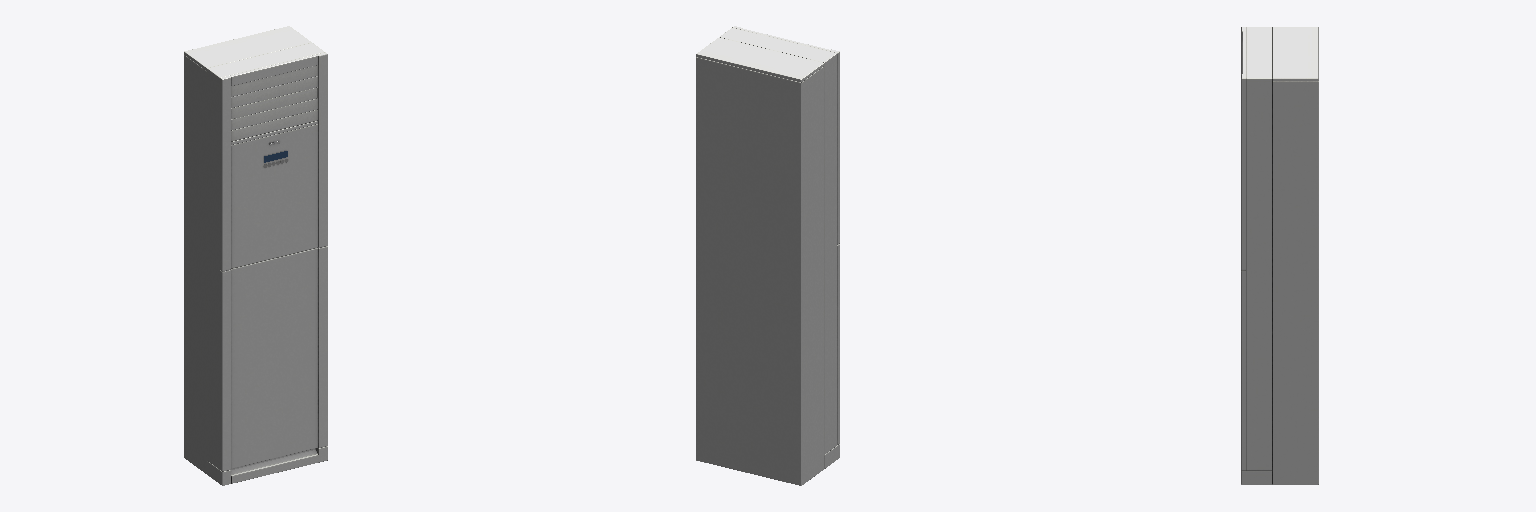
3 renders of one model, left to right at view 1: azimuth 30°, elevation 25°; view 2: azimuth 150°, elevation 25°; view 3: azimuth 270°, elevation 25°, orthographic.
Parts seen in each view (by area): view 1: Box13; view 2: Box13; view 3: Box13.
Part boxes in pixels (left/top/right/bottom): Box13: left=184, top=26, right=327, bottom=485; Box13: left=696, top=26, right=839, bottom=485; Box13: left=1241, top=27, right=1318, bottom=484.
Size of the model in its own units: 50 by 184 by 31.62.
Materials: 1 (1 with a texture image).